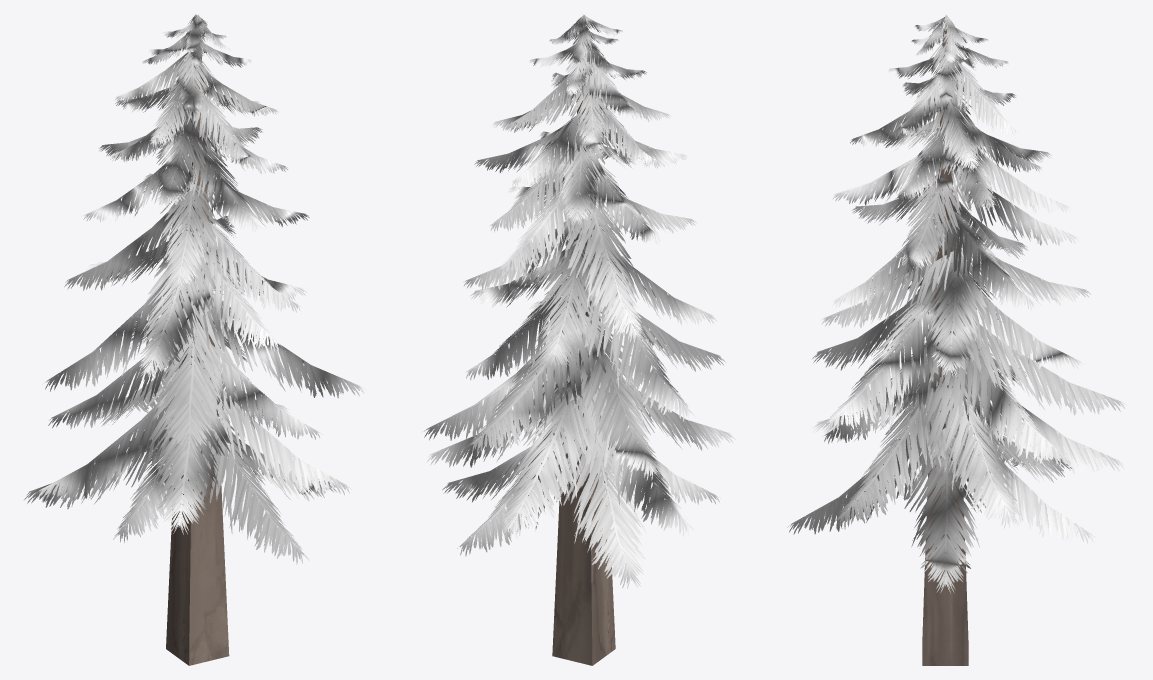
The model's file is PineTree03.fbx.
3 renders of one model, left to right at view 1: azimuth 30°, elevation 25°; view 2: azimuth 150°, elevation 25°; view 3: azimuth 270°, elevation 25°, orthographic.
Visible parts, largest first — view 1: PineTree03_LOD0; view 2: PineTree03_LOD0; view 3: PineTree03_LOD0.
Boxes of the visible parts, left/top/right/bottom form: PineTree03_LOD0: left=23, top=14, right=365, bottom=665; PineTree03_LOD0: left=424, top=14, right=735, bottom=665; PineTree03_LOD0: left=787, top=15, right=1125, bottom=665.
Size of what is drawn, in the model's own units: 476 by 1002 by 509.
